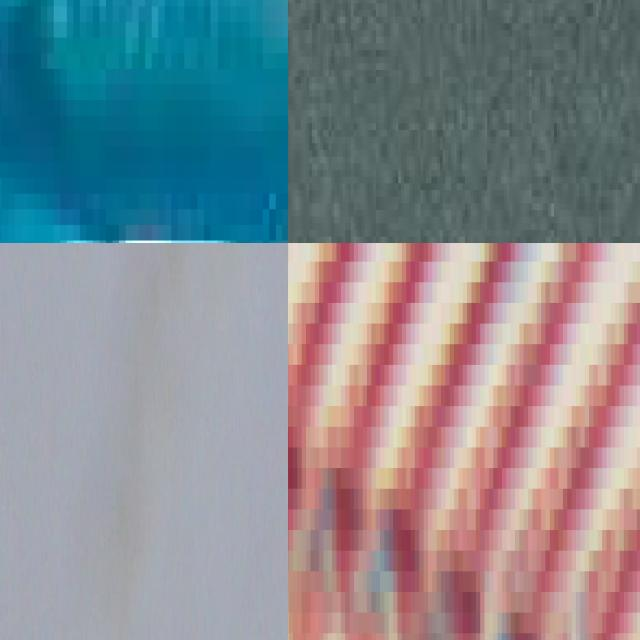fish: (288, 243, 640, 640), (0, 0, 288, 243)
